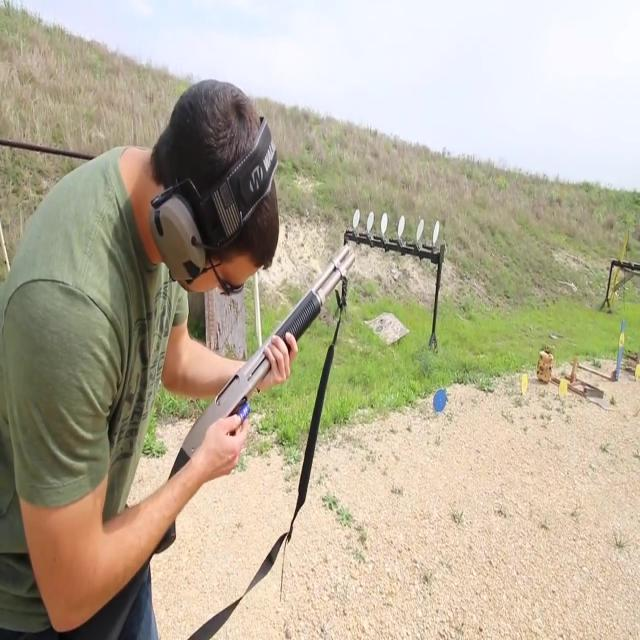Weapon: (51, 234, 377, 640)
